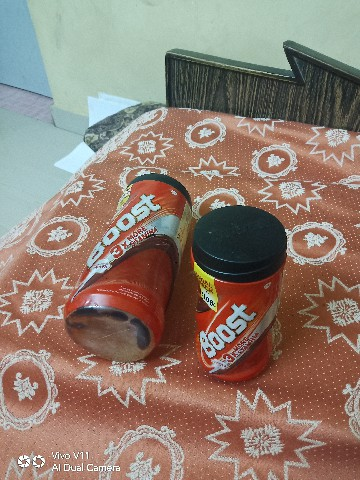boost big: (58, 168, 192, 357)
boost small: (189, 207, 289, 380)
